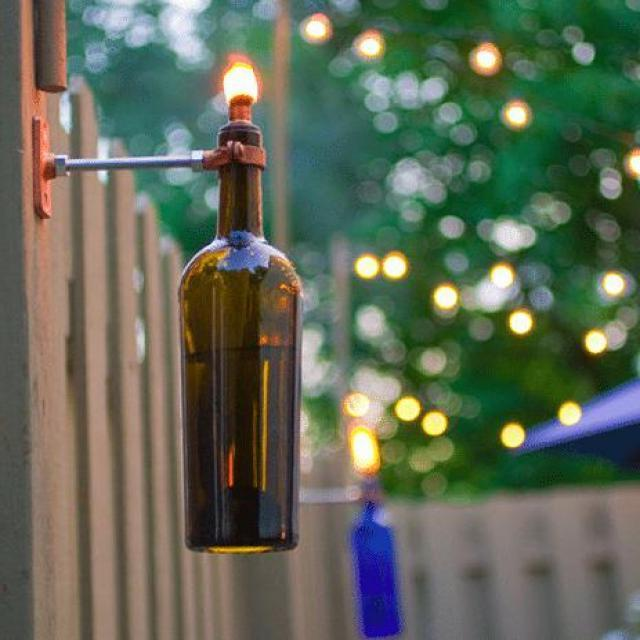glass: (172, 120, 302, 558)
